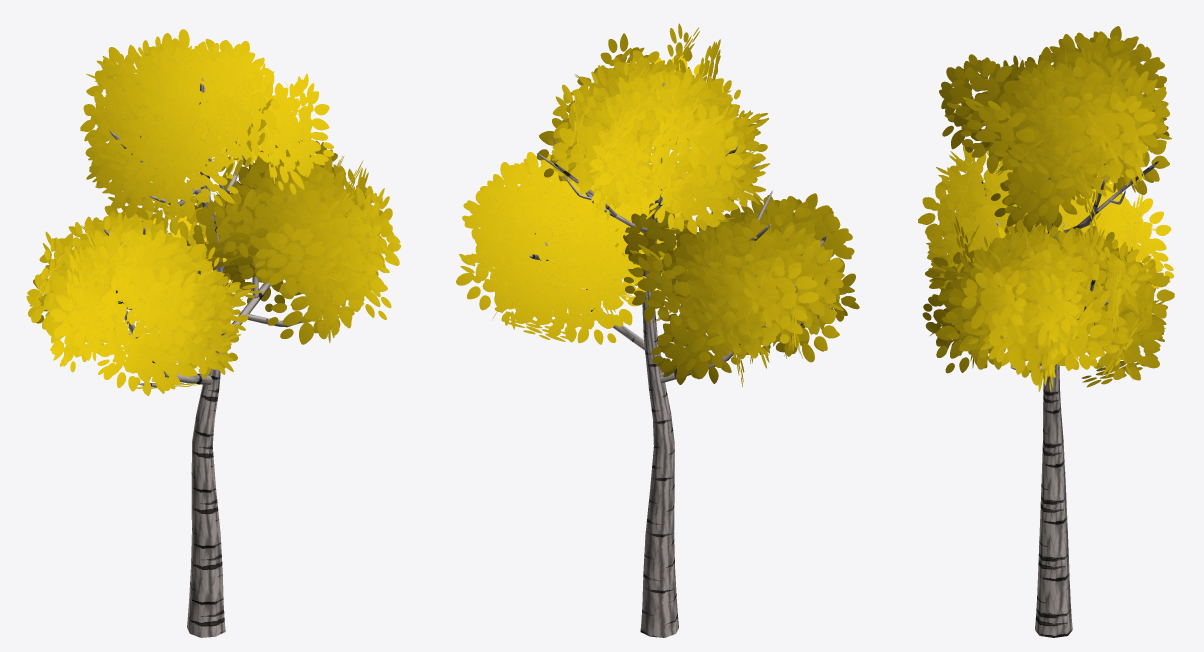
File: BirchTree_4.glb
The picture shows the model from 3 angles, left to right: view 1: azimuth 30°, elevation 25°; view 2: azimuth 150°, elevation 25°; view 3: azimuth 270°, elevation 25°; orthographic projection.
Parts seen in each view (by area): view 1: BirchTree_4; view 2: BirchTree_4; view 3: BirchTree_4.
Boxes of the visible parts, x1=… form: BirchTree_4: x1=26, y1=29, x2=400, y2=637; BirchTree_4: x1=456, y1=23, x2=859, y2=637; BirchTree_4: x1=918, y1=26, x2=1174, y2=637.
Size of the model in its own units: 2.78 by 4.21 by 1.84.
Materials: 2 (2 with a texture image).
